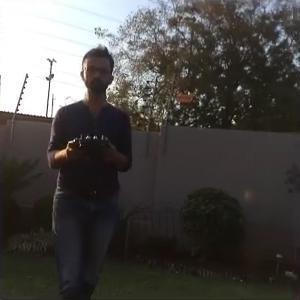follow: (40, 39, 137, 298)
